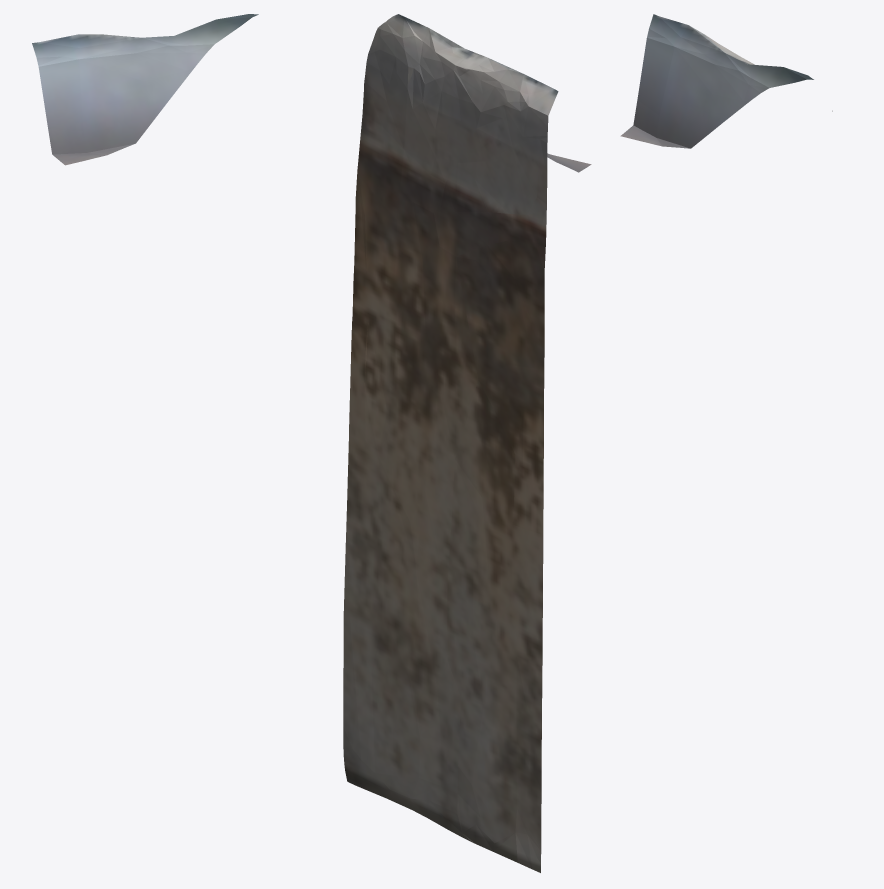
The picture shows the model from 3 angles, left to right: view 1: azimuth 30°, elevation 25°; view 2: azimuth 150°, elevation 25°; view 3: azimuth 330°, elevation 25°; orthographic projection.
Bounding box in the file's own units: 0.3118 × 0.9713 × 0.1106.
1 material, 1 textured.
